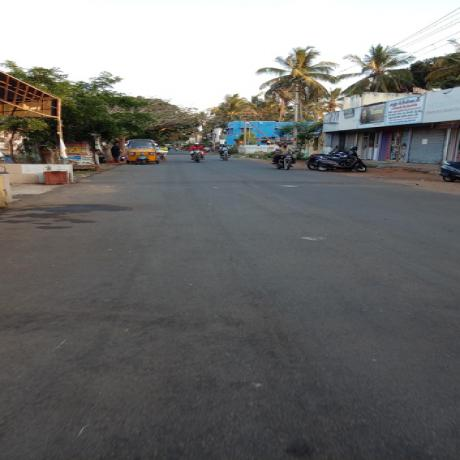Speed Bump: (62, 178, 406, 188)
